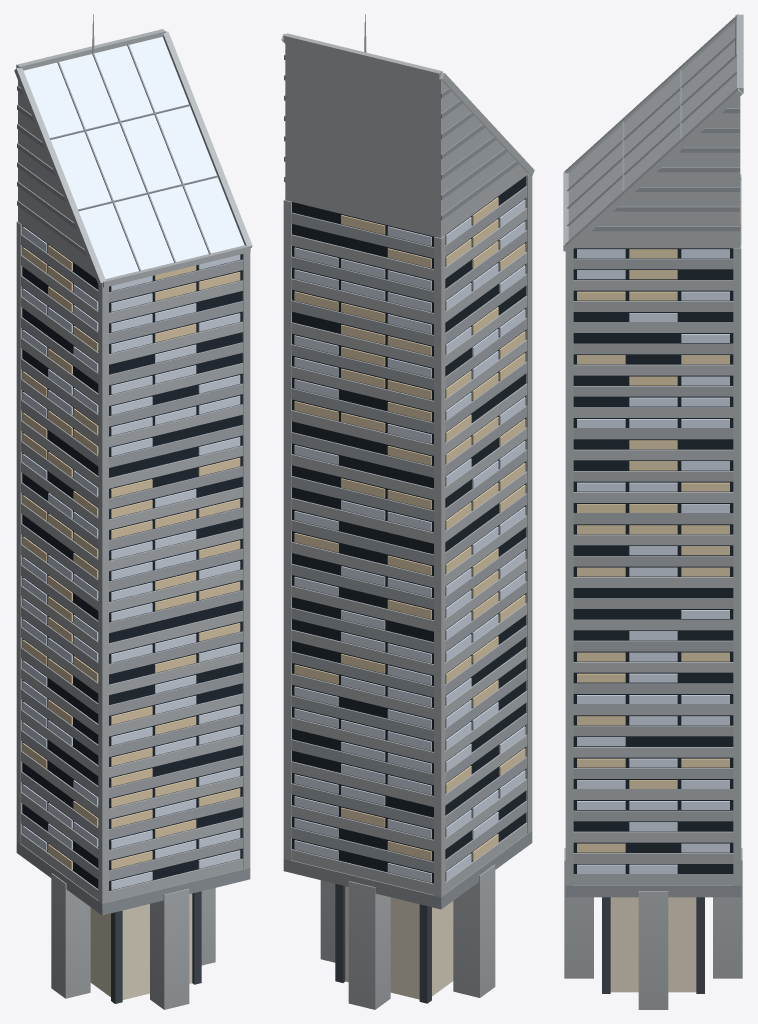
File: slant_tower.glb
The picture shows the model from 3 angles, left to right: view 1: azimuth 30°, elevation 25°; view 2: azimuth 150°, elevation 25°; view 3: azimuth 270°, elevation 25°; orthographic projection. The views are drawn at different scales.
Parts seen in each view (by area): view 1: slant_tower; view 2: slant_tower; view 3: slant_tower.
Boxes of the visible parts, bbox=[...] form: slant_tower: bbox=[14, 14, 252, 1009]; slant_tower: bbox=[281, 14, 534, 1009]; slant_tower: bbox=[563, 14, 743, 1009].
Bounding box in the file's own units: 49.8 × 292 × 49.8.
